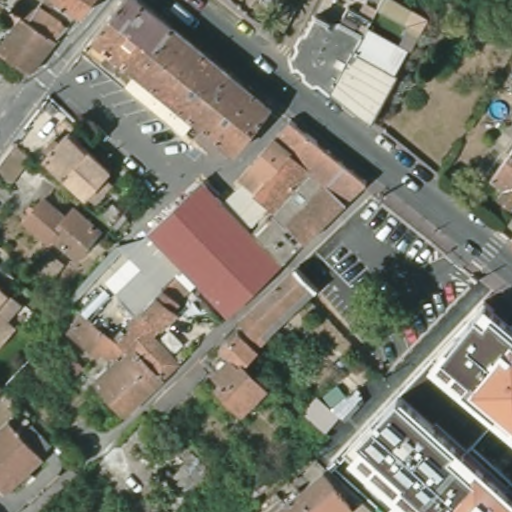pool: (488, 98, 511, 119)
